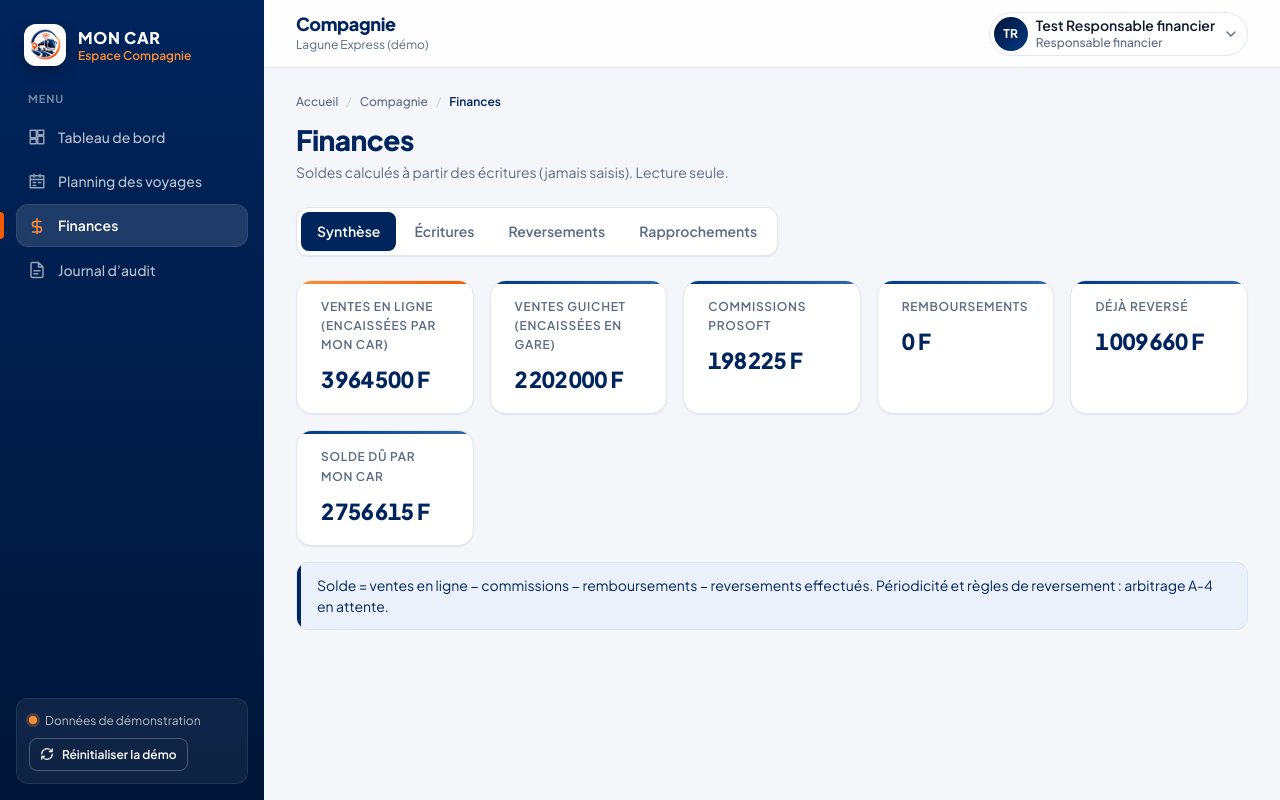
Scenario: Finances, promotions, paramètres, litiges › le responsable financier consulte la synthèse et les reversements
Expected: the text "Solde dû par MON CAR" is shown, [321,449,415,484]
What coordinates should you click on to do the following:
click the tab "Reversements"
I would click on:
 (557, 231)
Its box is [492,212,621,251].
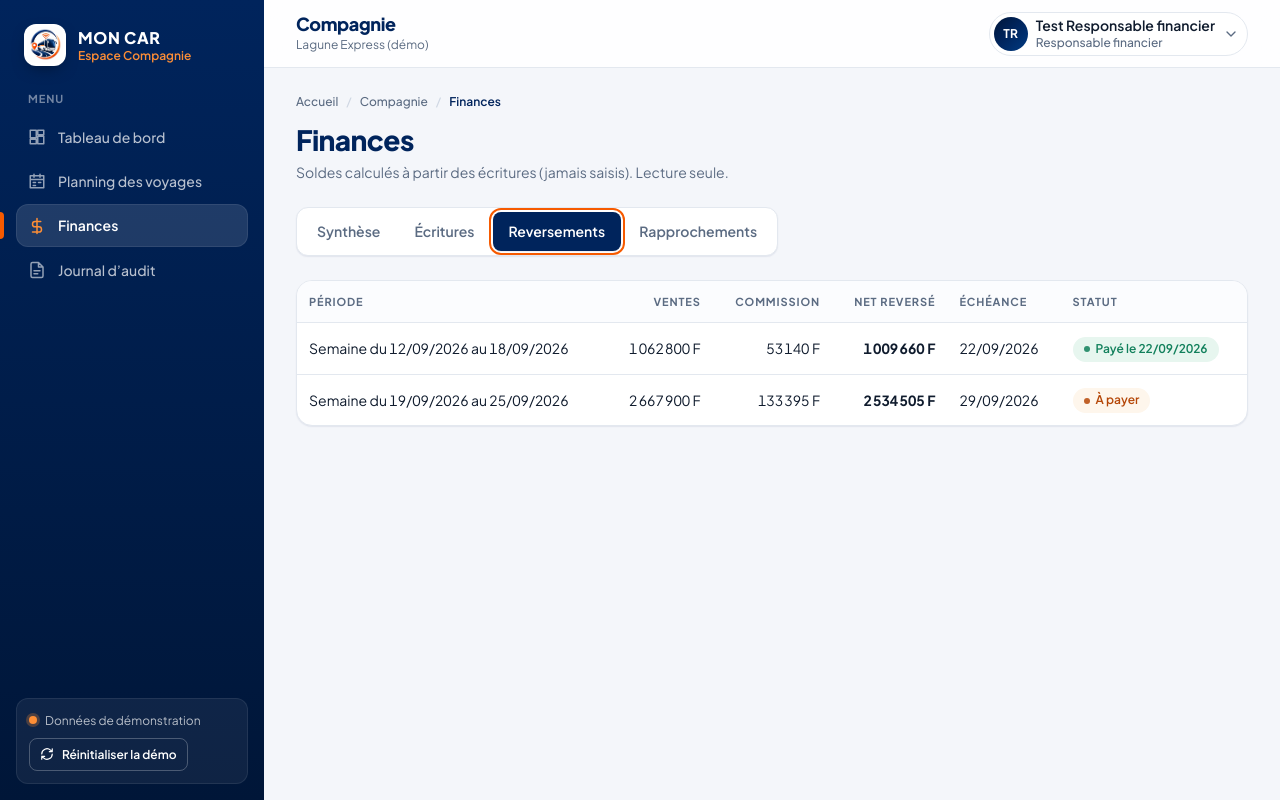
Expected: the table named "États de reversement" is shown, [297,281,1247,425]
Expected: the text "Payé le 22/09/2026" is shown, [1073,337,1219,362]
